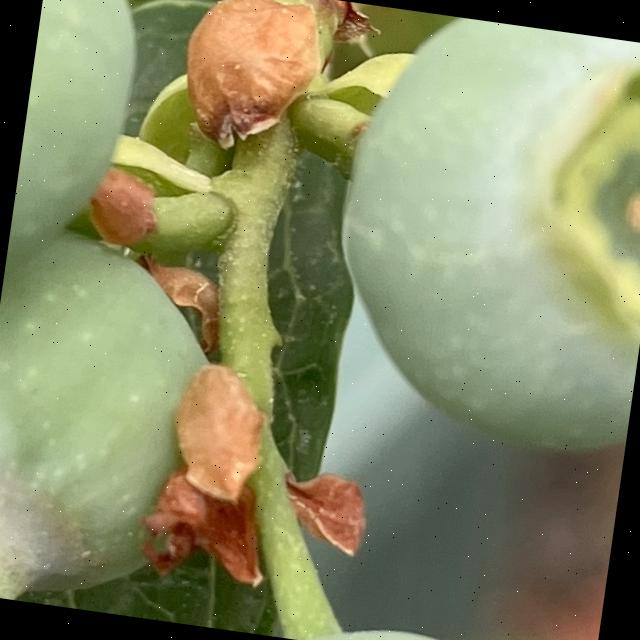Blueberries: (307, 3, 640, 460)
